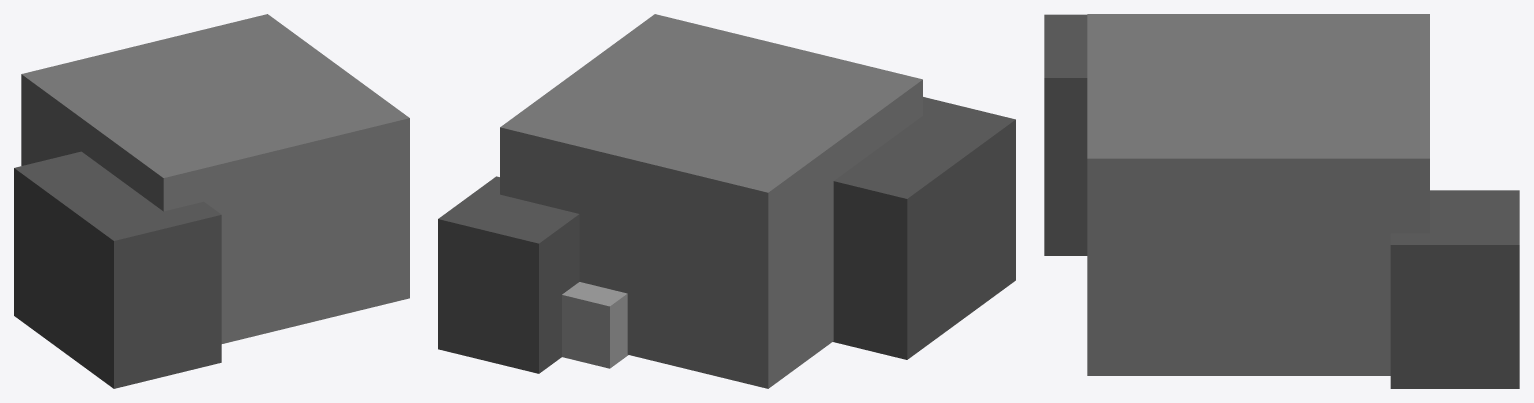
The model's file is Rock_02.fbx.
The picture shows the model from 3 angles, left to right: view 1: azimuth 30°, elevation 25°; view 2: azimuth 150°, elevation 25°; view 3: azimuth 270°, elevation 25°; orthographic projection. The views are drawn at different scales.
Visible parts, largest first — view 1: Cube; view 2: Cube; view 3: Cube.
Boxes of the visible parts, x1=… form: Cube: x1=14, y1=14, x2=409, y2=388; Cube: x1=438, y1=14, x2=1015, y2=388; Cube: x1=1044, y1=14, x2=1519, y2=388.
Size of the model in its own units: 0.9216 by 0.4792 by 0.944.
